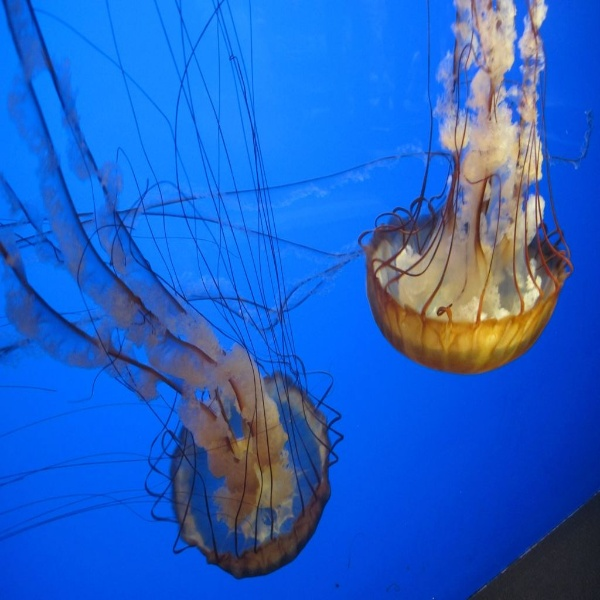Jellyfish: (0, 0, 343, 577), (359, 18, 579, 400)
